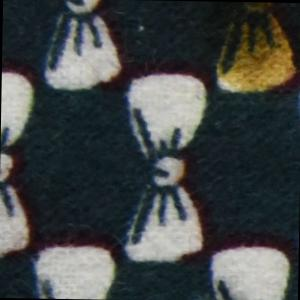Oil Stain: (208, 2, 300, 100)
